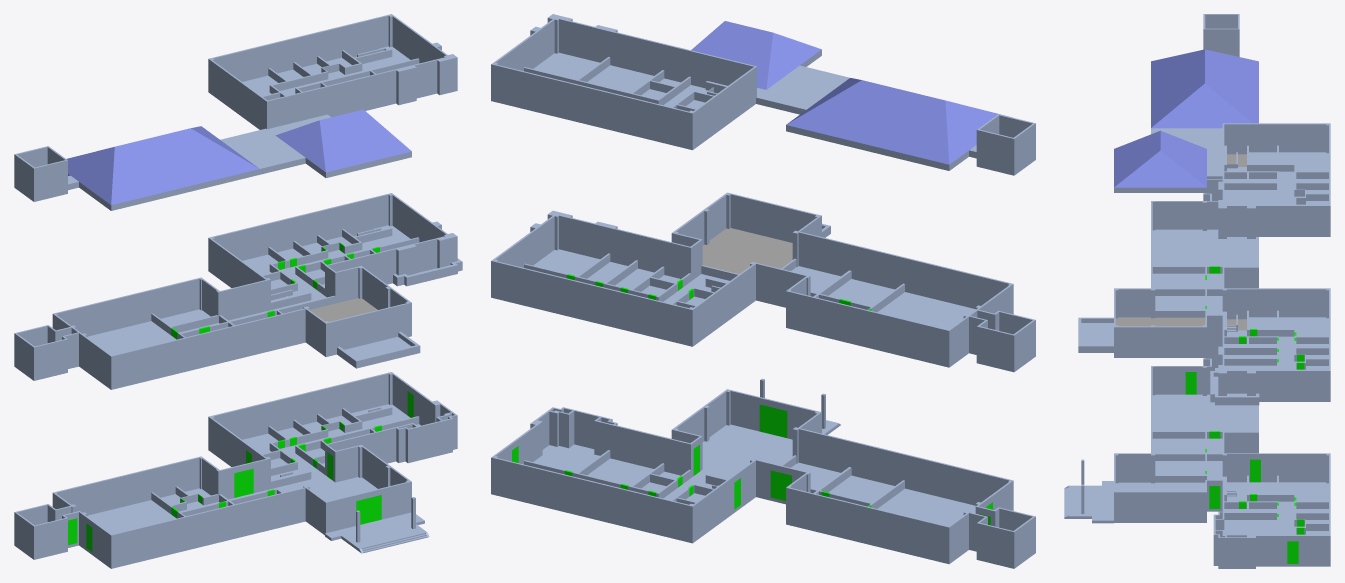
Rendered from Administration_Complex_expansion.glb.
The picture shows the model from 3 angles, left to right: view 1: azimuth 30°, elevation 25°; view 2: azimuth 150°, elevation 25°; view 3: azimuth 270°, elevation 25°; orthographic projection. The views are drawn at different scales.
Visible parts, largest first — view 1: Floor1, Floor2, Floor3; view 2: Floor1, Floor2, Floor3; view 3: Floor1, Floor2, Floor3.
Part boxes in pixels (x1,y1,x2,y2): Floor1: (14, 372, 457, 568); Floor2: (14, 193, 462, 389); Floor3: (14, 14, 457, 210); Floor1: (491, 378, 1035, 568); Floor2: (491, 192, 1035, 372); Floor3: (491, 14, 1035, 175); Floor1: (1064, 346, 1330, 568); Floor2: (1078, 179, 1330, 405); Floor3: (1114, 14, 1330, 238).
Size of the model in its own units: 62.55 by 54 by 36.
